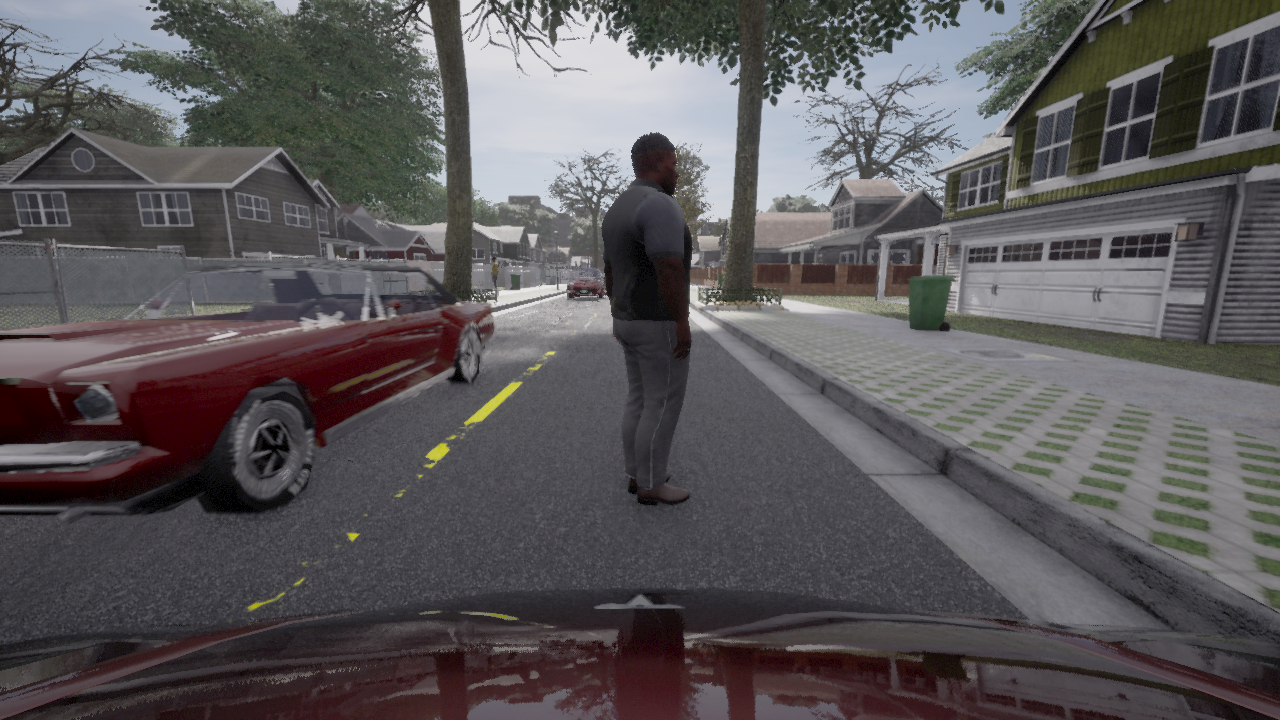cyclist: (0, 588, 1279, 719), (0, 261, 494, 525), (567, 267, 605, 298), (601, 271, 603, 275)
pedestrian: (600, 133, 691, 505), (492, 256, 498, 295)
